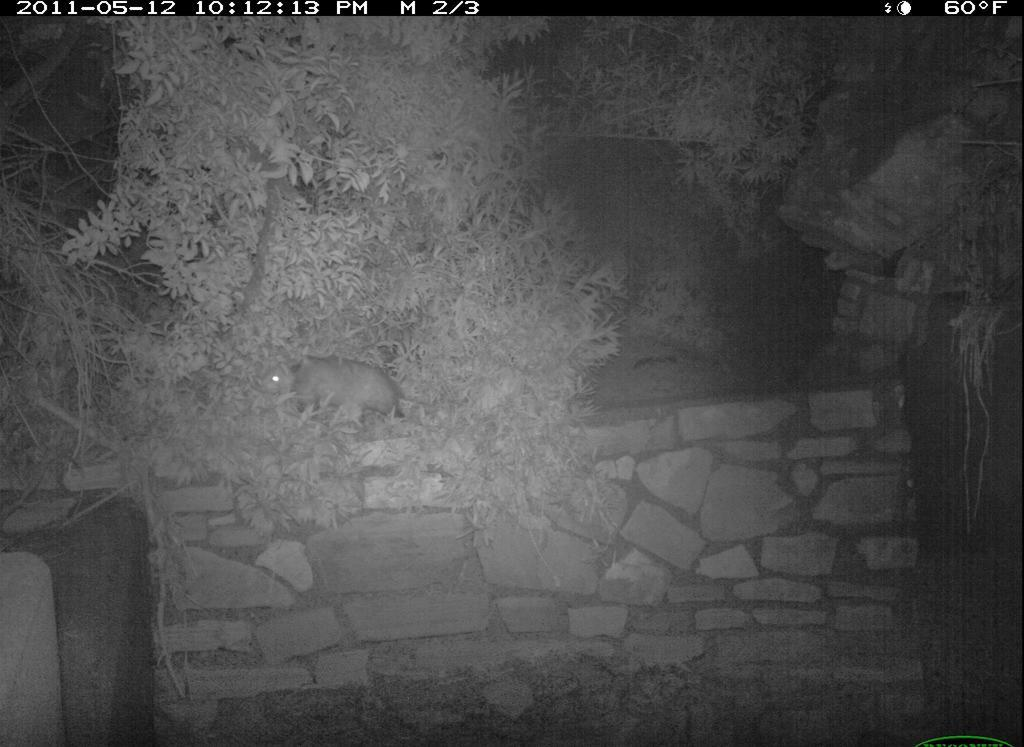opossum: (257, 345, 411, 446)
